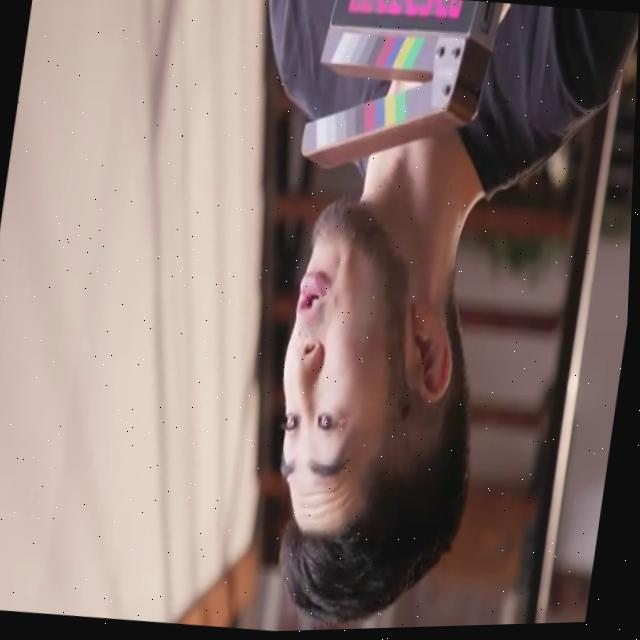Clapperboard: (295, 0, 499, 190)
